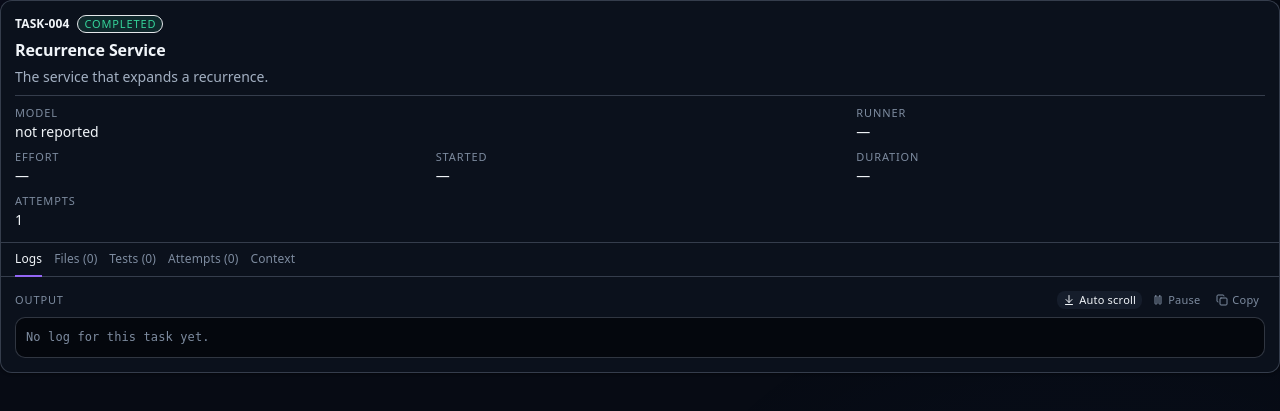
Attempts › says nothing was recorded rather than showing an empty table
Step 1. Click the tab "Attempts (0)" → (203, 260), box [168,243,238,277]
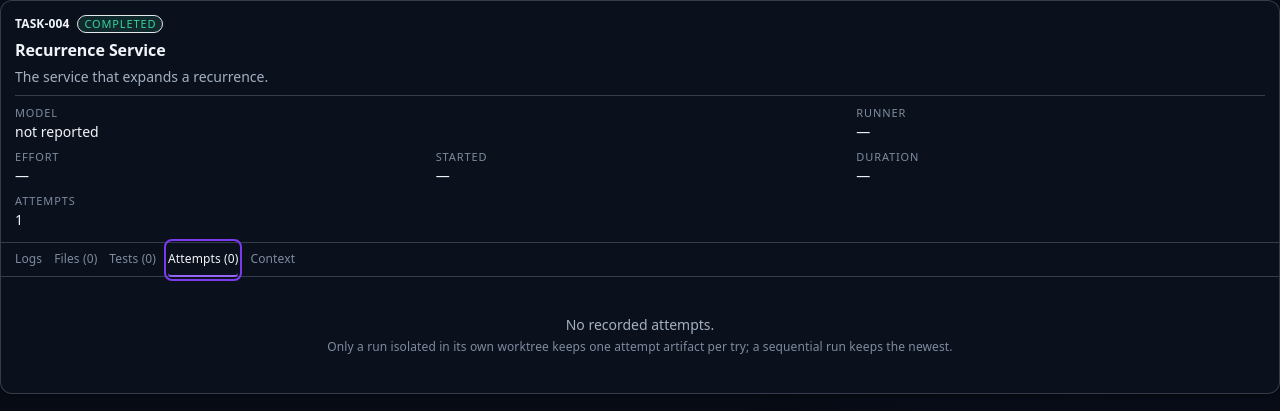
Expected: the text "No recorded attempts." is shown, [566,315,714,335]
